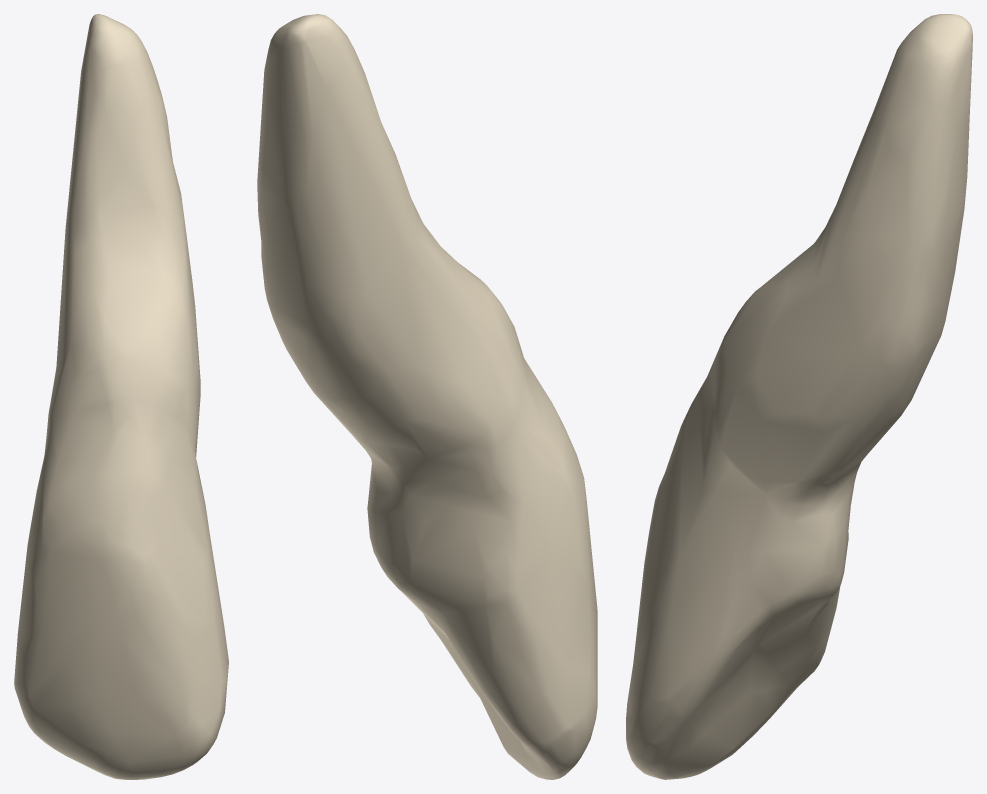
Rendered from upper-lateral-incisor-r.glb.
3 views of the same model, side by side, from view 1: azimuth 30°, elevation 25°; view 2: azimuth 150°, elevation 25°; view 3: azimuth 270°, elevation 25° (orthographic). The views are drawn at different scales.
Parts seen in each view (by area): view 1: Upper lateral incisor.r; view 2: Upper lateral incisor.r; view 3: Upper lateral incisor.r.
Part boxes in pixels (left/top/right/bottom): Upper lateral incisor.r: left=14, top=14, right=228, bottom=779; Upper lateral incisor.r: left=257, top=14, right=597, bottom=779; Upper lateral incisor.r: left=626, top=14, right=972, bottom=779.
Bounding box in the file's own units: 0.00937 × 0.0282 × 0.011.
